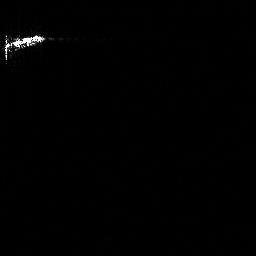ship: (5, 35, 48, 52)
